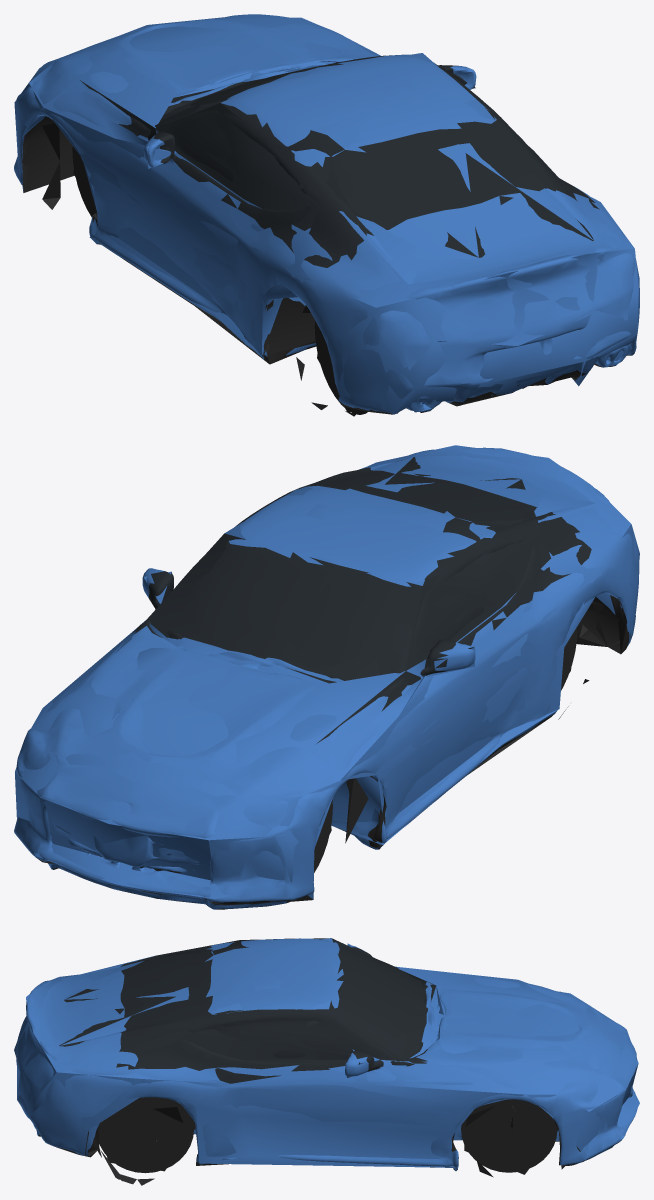
Rendered from nissan-z.glb.
The picture shows the model from 3 angles, top to bottom: view 1: azimuth 30°, elevation 25°; view 2: azimuth 150°, elevation 25°; view 3: azimuth 270°, elevation 25°; orthographic projection. The views are drawn at different scales.
Visible parts, largest first — view 1: body, far; view 2: body, far; view 3: body, far.
Part boxes in pixels (bbox=[...]): body: bbox=[14, 14, 639, 416]; far: bbox=[14, 17, 638, 414]; body: bbox=[14, 447, 639, 909]; far: bbox=[15, 445, 639, 901]; body: bbox=[16, 938, 637, 1185]; far: bbox=[14, 938, 639, 1174].
Size of the model in its own units: 1.95 by 1.31 by 4.31.
